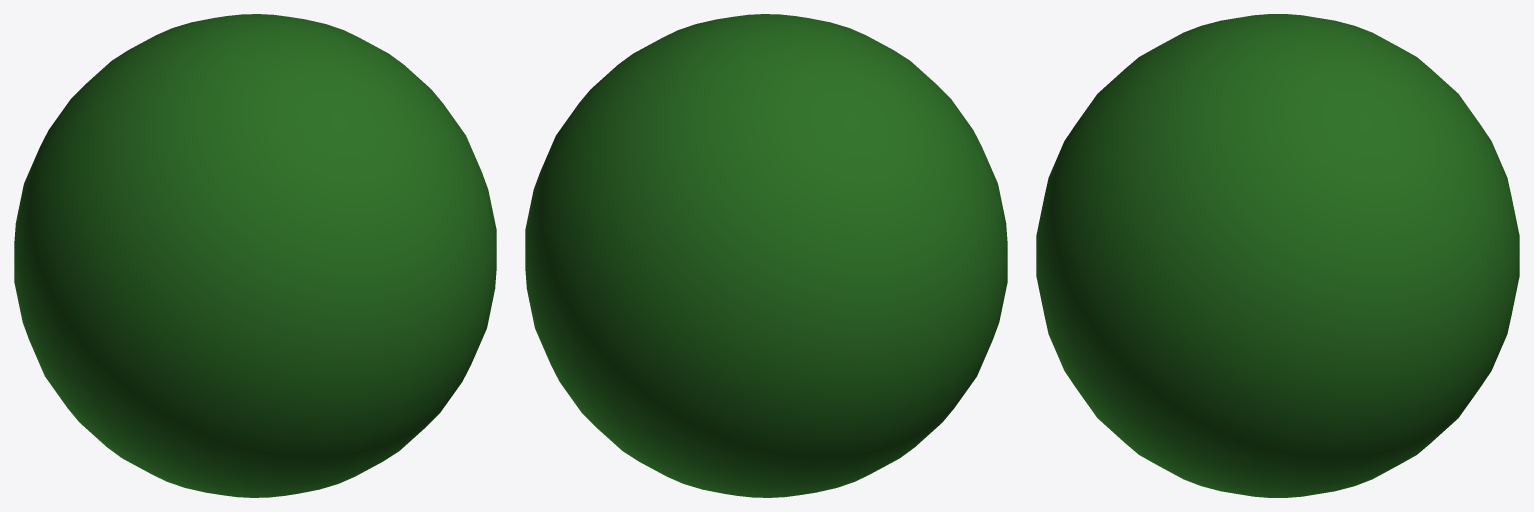
The model's file is short_block.obj.
3 renders of one model, left to right at view 1: azimuth 30°, elevation 25°; view 2: azimuth 150°, elevation 25°; view 3: azimuth 270°, elevation 25°, orthographic.
Visible parts, largest first — view 1: leftSphere; view 2: leftSphere; view 3: leftSphere.
Boxes of the visible parts, bbox=[...] form: leftSphere: bbox=[14, 14, 496, 497]; leftSphere: bbox=[525, 14, 1007, 497]; leftSphere: bbox=[1036, 14, 1519, 497].
Bounding box in the file's own units: 0.6472 × 0.6526 × 0.6498.
